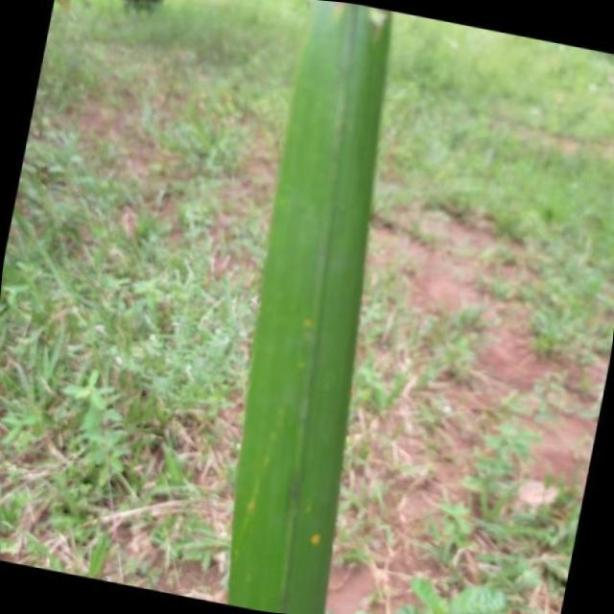Kalium: (226, 6, 393, 614)
